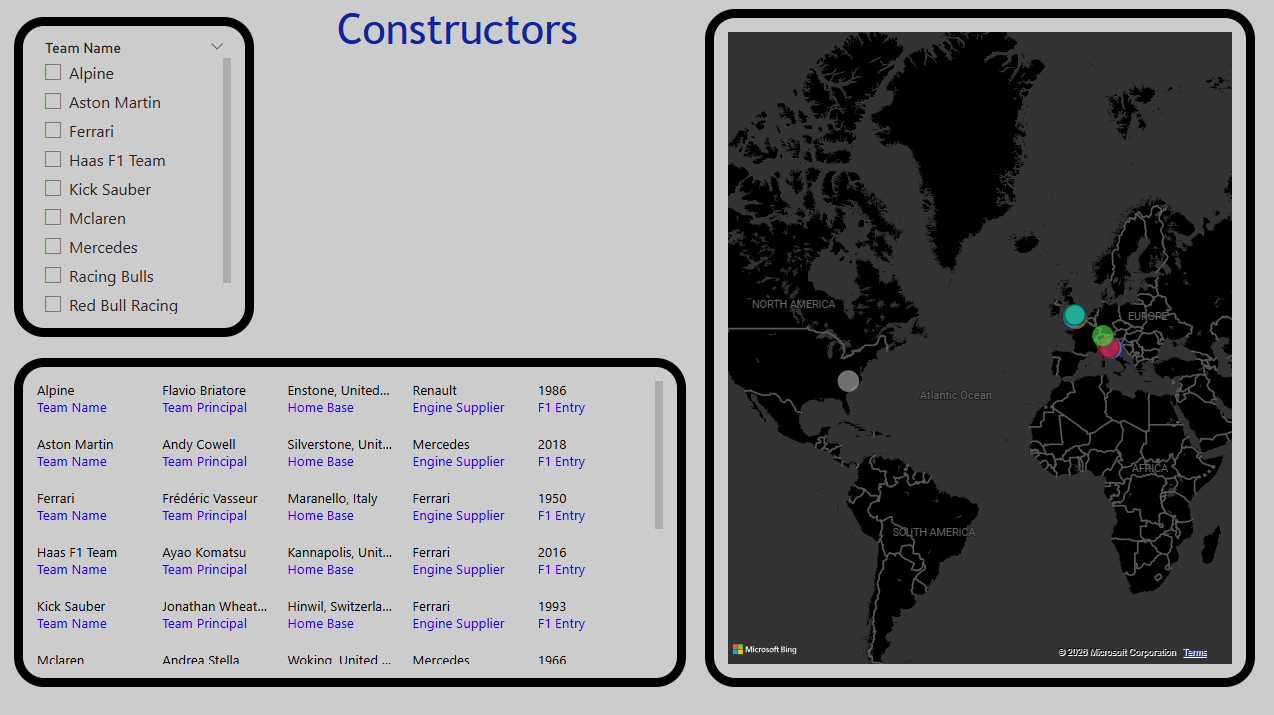

The page's visual inventory and layout, read from the dashboard file:
{"tool":"powerbi","page":{"name":"Constructors","canvas":[1280,720],"ordinal":1},"visuals":[{"type":"multiRowCard","fields":{"Values":["Constructors_2025.Team Name","Constructors_2025.Team Principal","Constructors_2025.Home Base","Constructors_2025.Engine Supplier","Constructors_2025.F1 Entry "]},"box":[16.4,359.3,672.1,329.2],"z":0},{"type":"slicer","fields":{"Values":["Constructors_2025.Team Name"]},"box":[16.5,17.7,239.2,320.3],"z":1000},{"type":"textbox","box":[334.2,0,259.5,73.4],"z":2000},{"type":"card","fields":{"Values":["Constructors_2025.Show Wins"]},"box":[270.9,93.7,160.8,203.8],"z":3000},{"type":"card","fields":{"Values":["Constructors_2025.Show Championships"]},"box":[454.8,92.9,226.4,204.2],"z":4000},{"type":"map","fields":{"Y":["Constructors_2025.Latitude"],"X":["Constructors_2025.Longitude"]},"box":[706.7,10.5,550.3,677.3],"z":5000}]}

Visuals, with their boxes in screenshot pixels (x1, y1, x2, y2), scaled from the page's 1280x720 canvas onto the 1274x715 screenshot:
multiRowCard - Constructors_2025.Team Name x Constructors_2025.Team Principal: left=16, top=357, right=685, bottom=684
slicer - Constructors_2025.Team Name: left=16, top=18, right=255, bottom=336
textbox: left=333, top=0, right=591, bottom=73
card - Constructors_2025.Show Wins: left=270, top=93, right=430, bottom=295
card - Constructors_2025.Show Championships: left=453, top=92, right=678, bottom=295
map - Constructors_2025.Latitude x Constructors_2025.Longitude: left=703, top=10, right=1251, bottom=683
